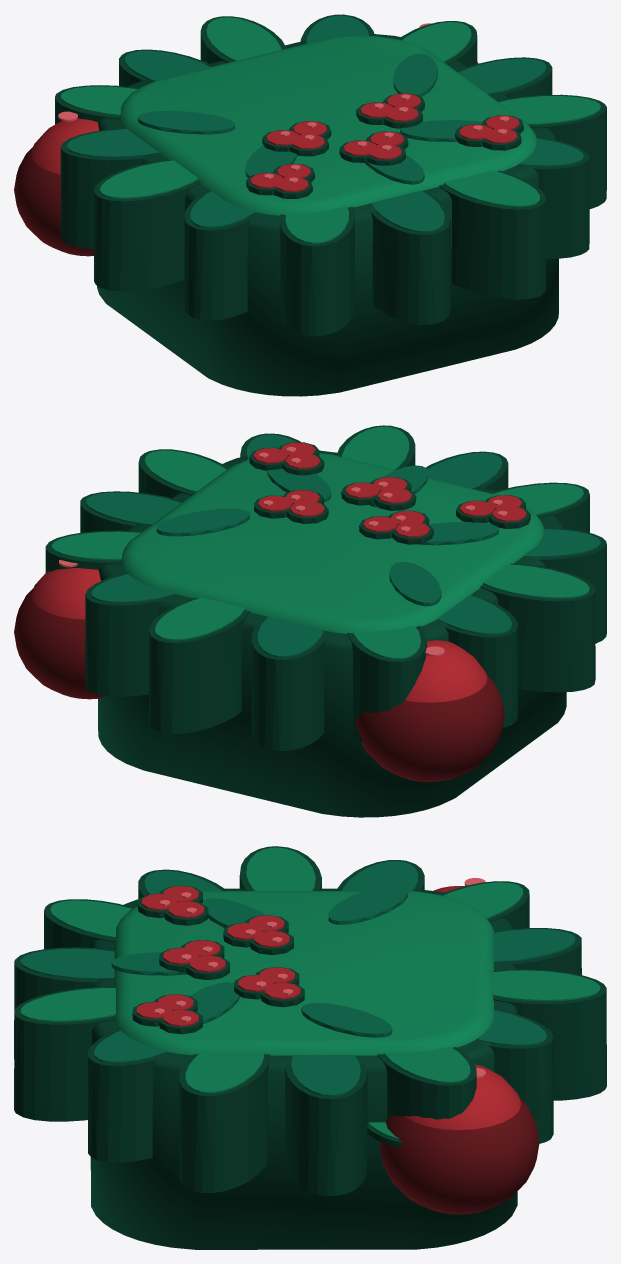
File: body_arbusto.fbx
The picture shows the model from 3 angles, top to bottom: view 1: azimuth 30°, elevation 25°; view 2: azimuth 150°, elevation 25°; view 3: azimuth 270°, elevation 25°; orthographic projection. The views are drawn at different scales.
Parts seen in each view (by area): view 1: body_arbusto_corpo, body_arbusto_mao_esq; view 2: body_arbusto_corpo, body_arbusto_mao_esq, body_arbusto_mao; view 3: body_arbusto_corpo, body_arbusto_mao.
Boxes of the visible parts, x1,y1,x2,y2 form: body_arbusto_corpo: [55, 14, 606, 396]; body_arbusto_mao_esq: [14, 111, 99, 256]; body_arbusto_corpo: [45, 425, 606, 817]; body_arbusto_mao_esq: [355, 640, 504, 782]; body_arbusto_mao: [14, 560, 105, 699]; body_arbusto_corpo: [14, 846, 606, 1249]; body_arbusto_mao: [367, 1064, 539, 1214].
Size of the model in its own units: 5.56 by 2.12 by 5.54.
Materials: 1 (1 with a texture image).
